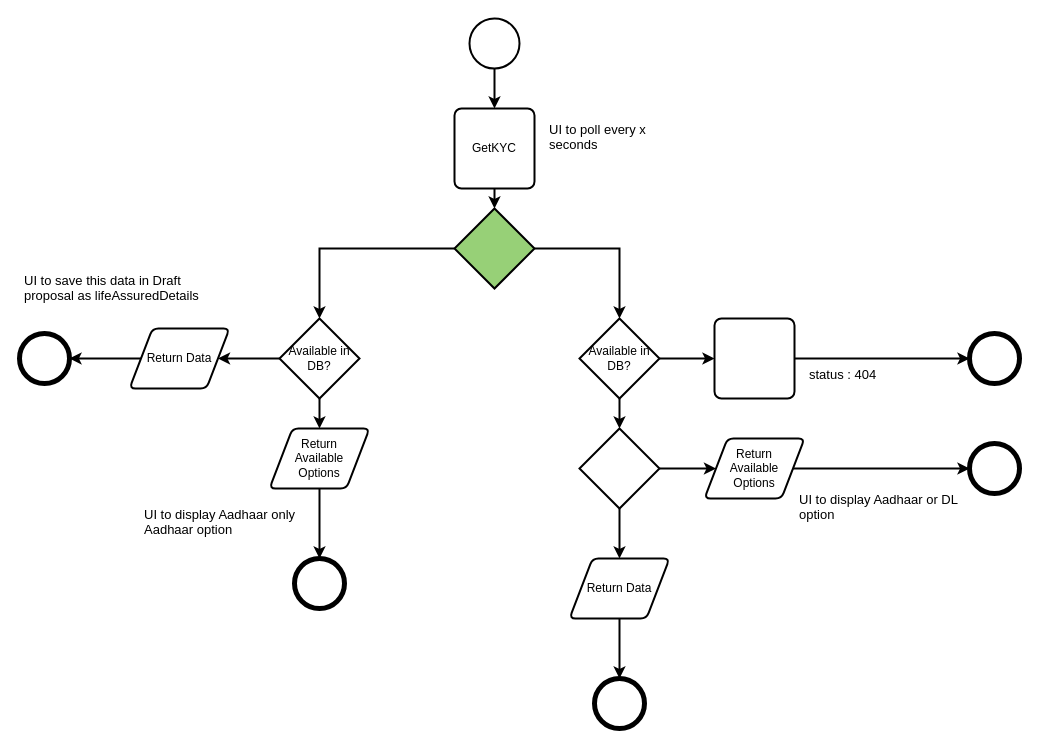
Image size: 1039x748. Some labels were removed from this diagram. The box of each missing label's shape, as (x1, y1, x2, y2) in pixels:
Call Step Function: (713, 317, 795, 399)
CKYC Available?: (578, 427, 660, 509)
LA / PH?: (453, 207, 535, 289)
